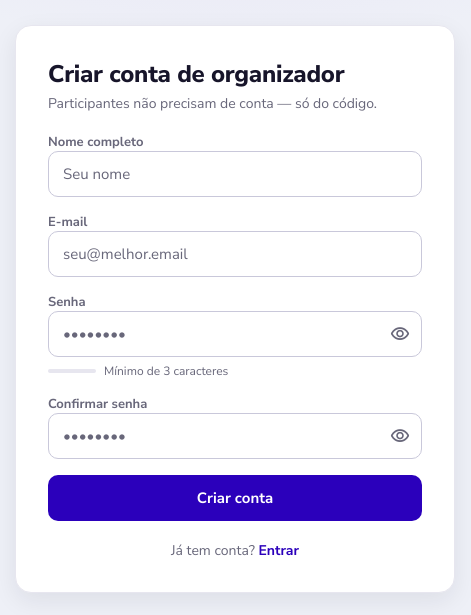
Test: Tela de Criar conta › exibe erro de validação ao enviar vazio
(page scrolled)
Click the button "Criar conta".
click(235, 498)  # box 48,475 -> 422,521
(page scrolled)
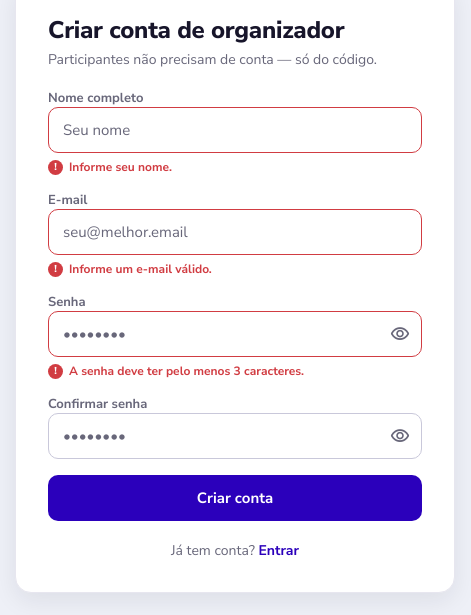
Now the text "Informe seu nome." is shown, box 69,159 -> 172,175
